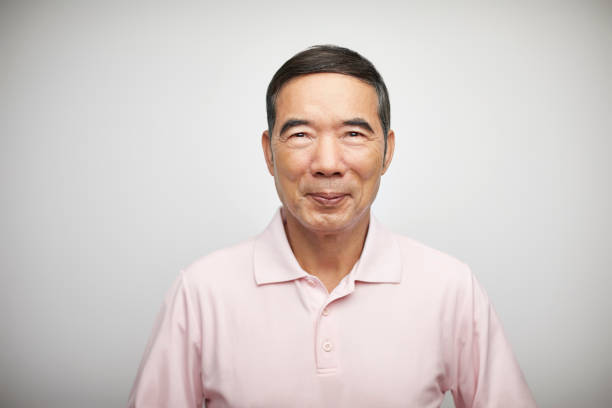person: (260, 43, 395, 245)
